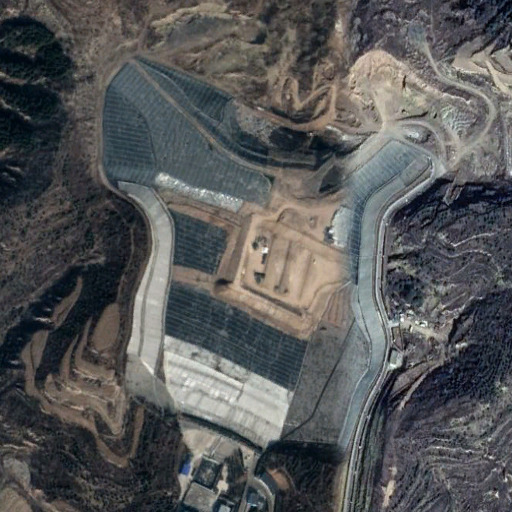lf: (102, 58, 435, 445)
